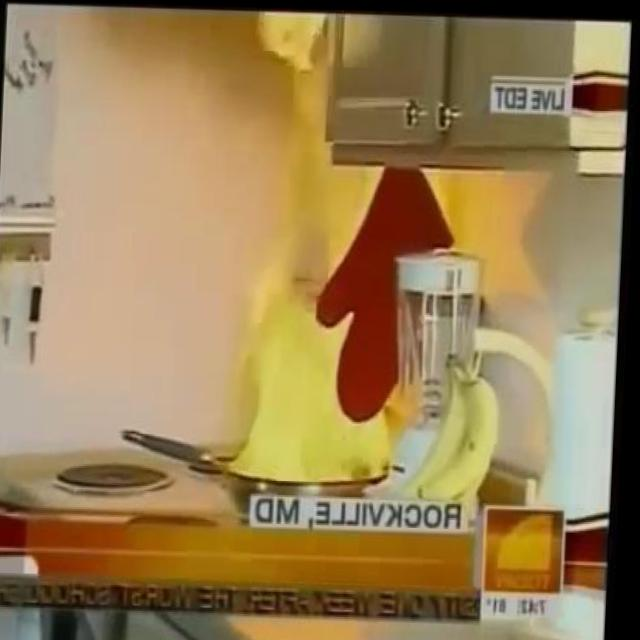fire: (226, 161, 442, 486)
